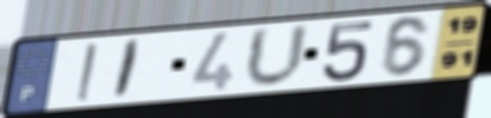4: (189, 30, 237, 94)
5: (318, 18, 378, 83)
6: (376, 14, 436, 79)
I: (110, 37, 146, 102), (74, 41, 100, 103)
U: (242, 21, 313, 91)
